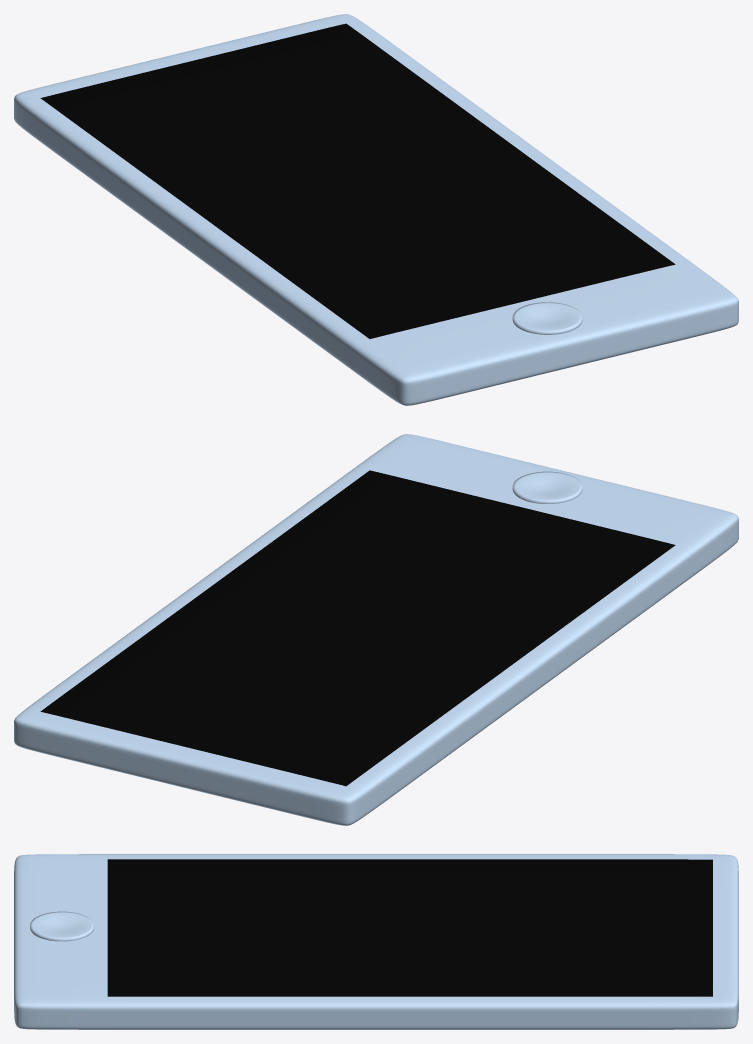
Rendered from celular.fbx.
The picture shows the model from 3 angles, top to bottom: view 1: azimuth 30°, elevation 25°; view 2: azimuth 150°, elevation 25°; view 3: azimuth 270°, elevation 25°; orthographic projection. The views are drawn at different scales.
Visible parts, largest first — view 1: Plane; view 2: Plane; view 3: Plane.
Boxes of the visible parts, x1,y1,x2,y2 form: Plane: [14, 14, 738, 405]; Plane: [14, 434, 738, 825]; Plane: [14, 854, 738, 1029].
Bounding box in the file's own units: 10 × 1 × 20.
